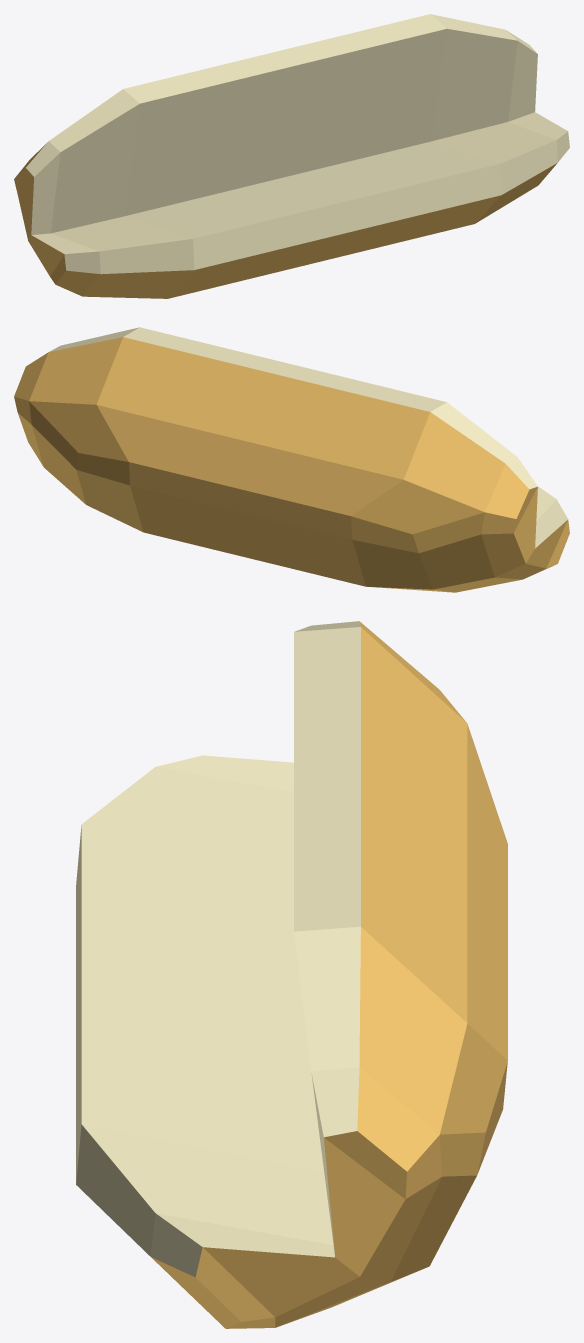
File: Hotdog Bun.fbx
3 views of the same model, one above another, from view 1: azimuth 30°, elevation 25°; view 2: azimuth 150°, elevation 25°; view 3: azimuth 270°, elevation 25° (orthographic). The views are drawn at different scales.
Parts seen in each view (by area): view 1: Hotdog Bun; view 2: Hotdog Bun; view 3: Hotdog Bun.
Boxes of the visible parts, <box> form: Hotdog Bun: <box>14,14,569,298</box>; Hotdog Bun: <box>14,327,569,592</box>; Hotdog Bun: <box>76,621,507,1328</box>.
Size of the model in its own units: 22.9 by 8.5 by 8.5.
